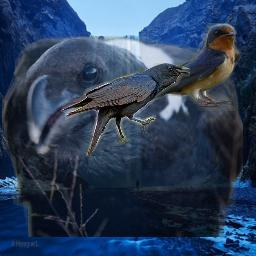Crow: (2, 35, 243, 237), (61, 63, 190, 157)
Swallow: (91, 23, 243, 111)
